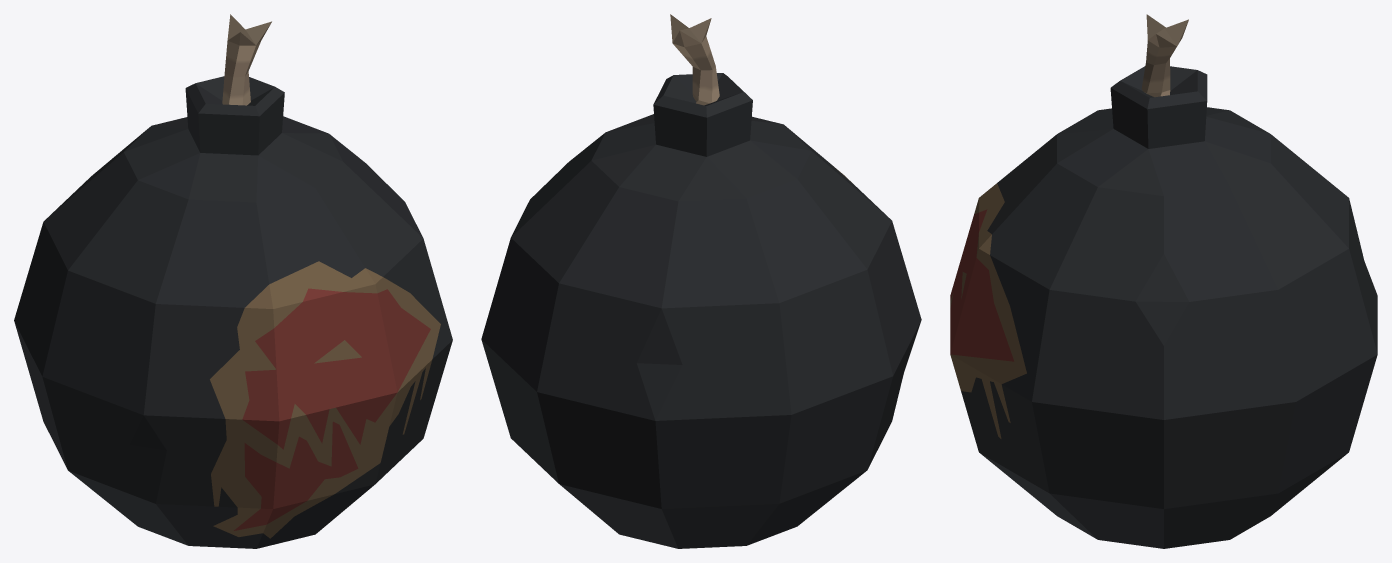
Rendered from bog_bomb.gltf.
The picture shows the model from 3 angles, left to right: view 1: azimuth 30°, elevation 25°; view 2: azimuth 150°, elevation 25°; view 3: azimuth 270°, elevation 25°; orthographic projection.
Parts seen in each view (by area): view 1: bog_bomb; view 2: bog_bomb; view 3: bog_bomb.
Boxes of the visible parts, x1=… form: bog_bomb: x1=14, y1=14, x2=452, y2=548; bog_bomb: x1=481, y1=14, x2=921, y2=548; bog_bomb: x1=950, y1=14, x2=1377, y2=548.
Bounding box in the file's own units: 0.7196 × 0.9082 × 0.6844.
1 material, 1 textured.
